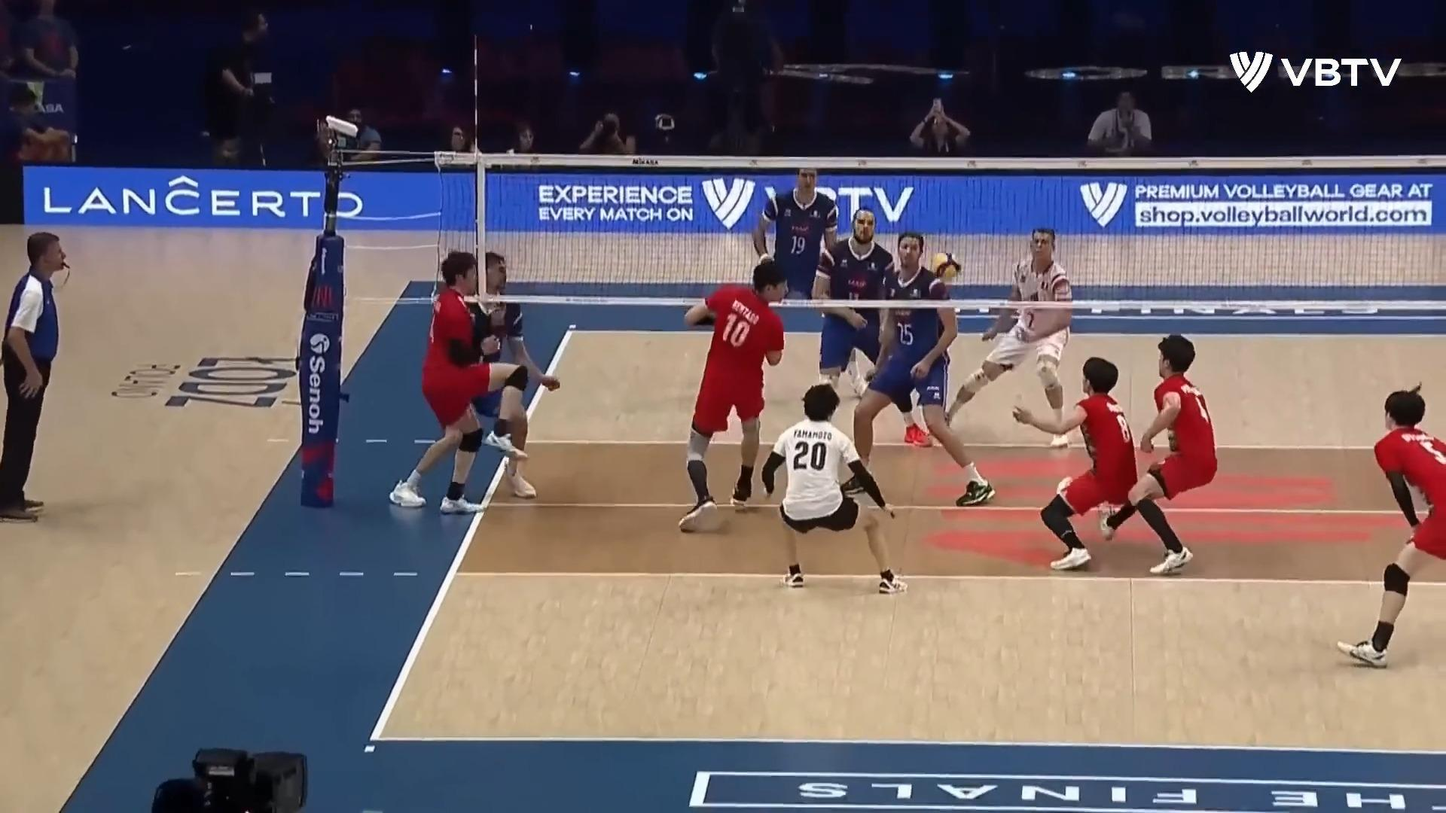ball: (930, 251, 965, 281)
